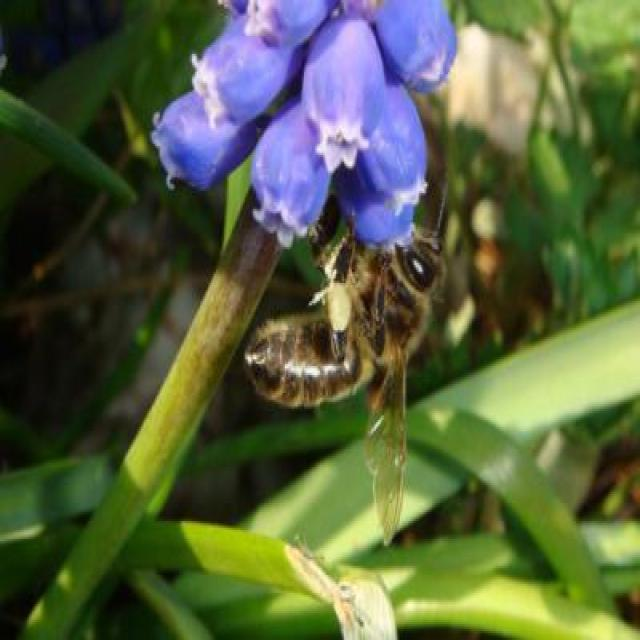antennae: (429, 185, 448, 244)
body: (241, 233, 444, 407)
insect: (242, 179, 453, 553)
legs: (354, 234, 390, 354), (309, 206, 340, 284), (336, 213, 358, 283)
wings: (365, 338, 408, 548)
